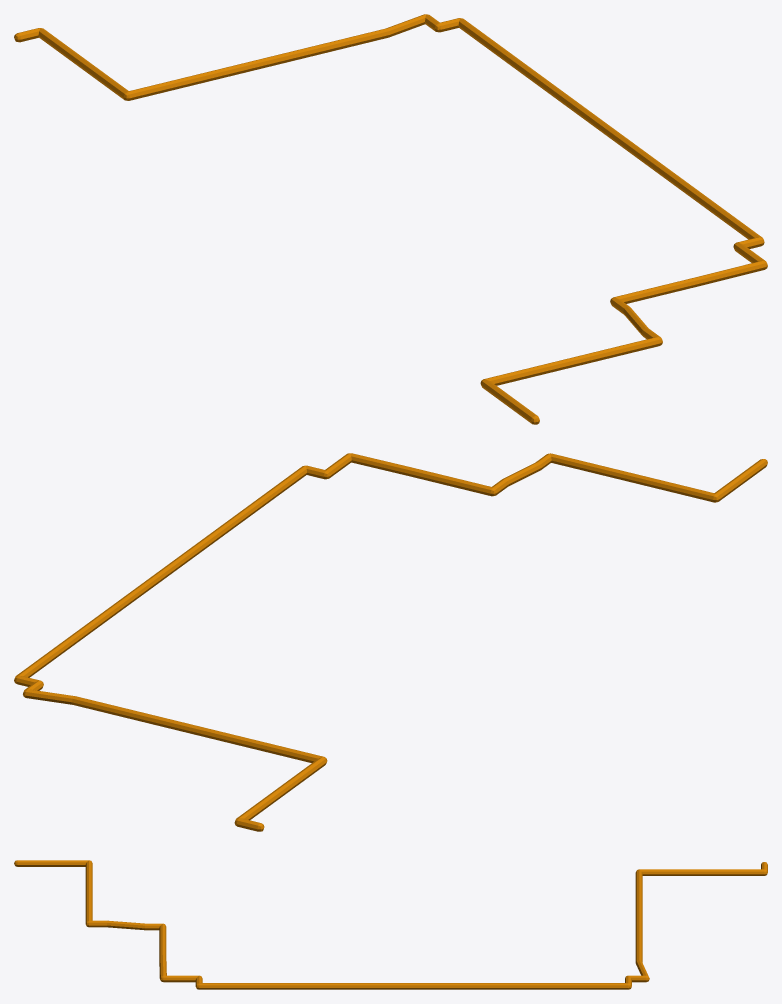
The picture shows the model from 3 angles, top to bottom: view 1: azimuth 30°, elevation 25°; view 2: azimuth 150°, elevation 25°; view 3: azimuth 270°, elevation 25°; orthographic projection. The views are drawn at different scales.
Bounding box in the file's own units: 833 × 20 × 2108.
